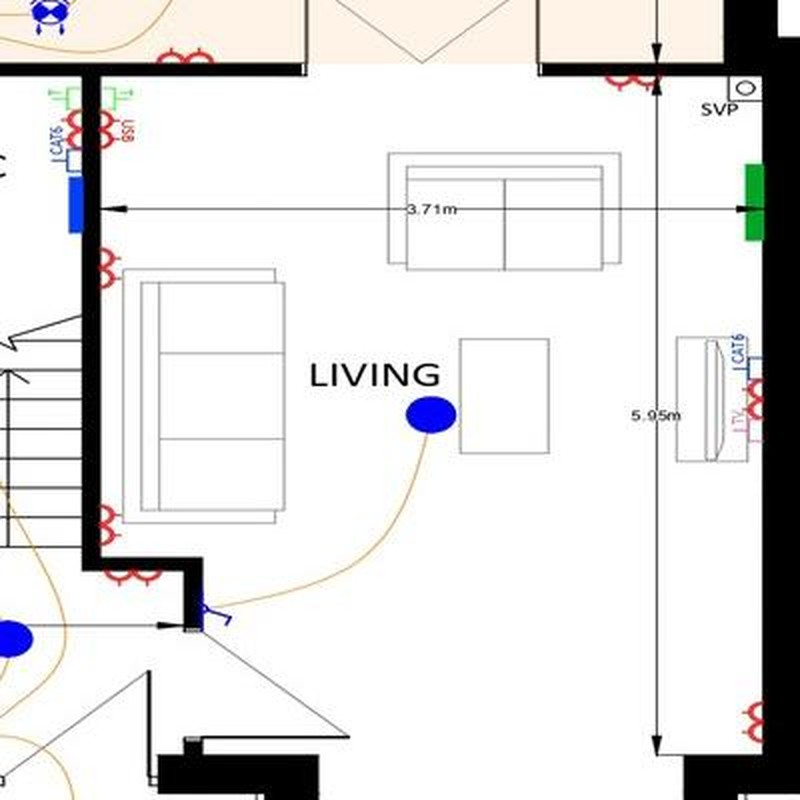Cat 6 Data Socket: (45, 126, 83, 175), (729, 334, 761, 378)
Double Socket: (100, 246, 122, 289), (105, 570, 163, 586), (605, 75, 663, 91), (99, 505, 121, 547), (742, 702, 762, 744), (158, 47, 214, 62), (743, 380, 763, 419), (62, 112, 83, 148)
Light Switch: (202, 603, 232, 628)
Low Energy Downlighter: (31, 1, 70, 36)
Low Energy Pendant Light: (404, 396, 456, 434), (1, 622, 31, 655)
Radiator: (744, 163, 765, 243)
Telephone Socket: (100, 87, 136, 110), (48, 87, 80, 109)
Twin LED Strip Light: (66, 175, 83, 233)
USB Double Socket: (100, 111, 136, 150)
